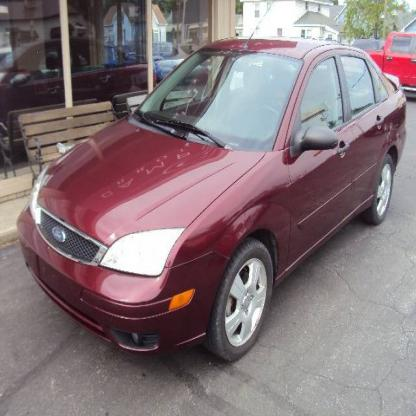Vehicle: (16, 38, 407, 364)
